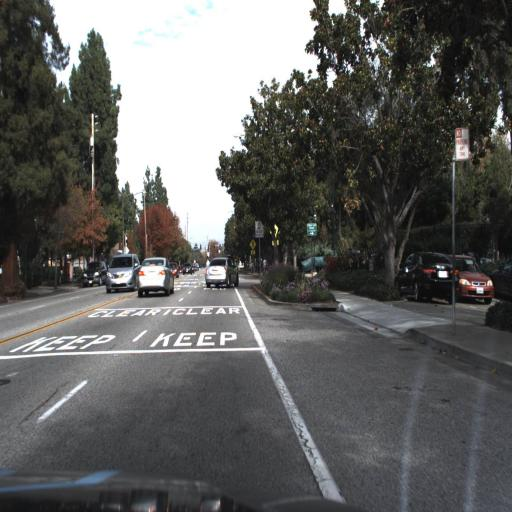car: (394, 248, 460, 302), (443, 252, 494, 306), (136, 256, 177, 298), (104, 252, 142, 292), (203, 254, 240, 288), (180, 257, 198, 281)
